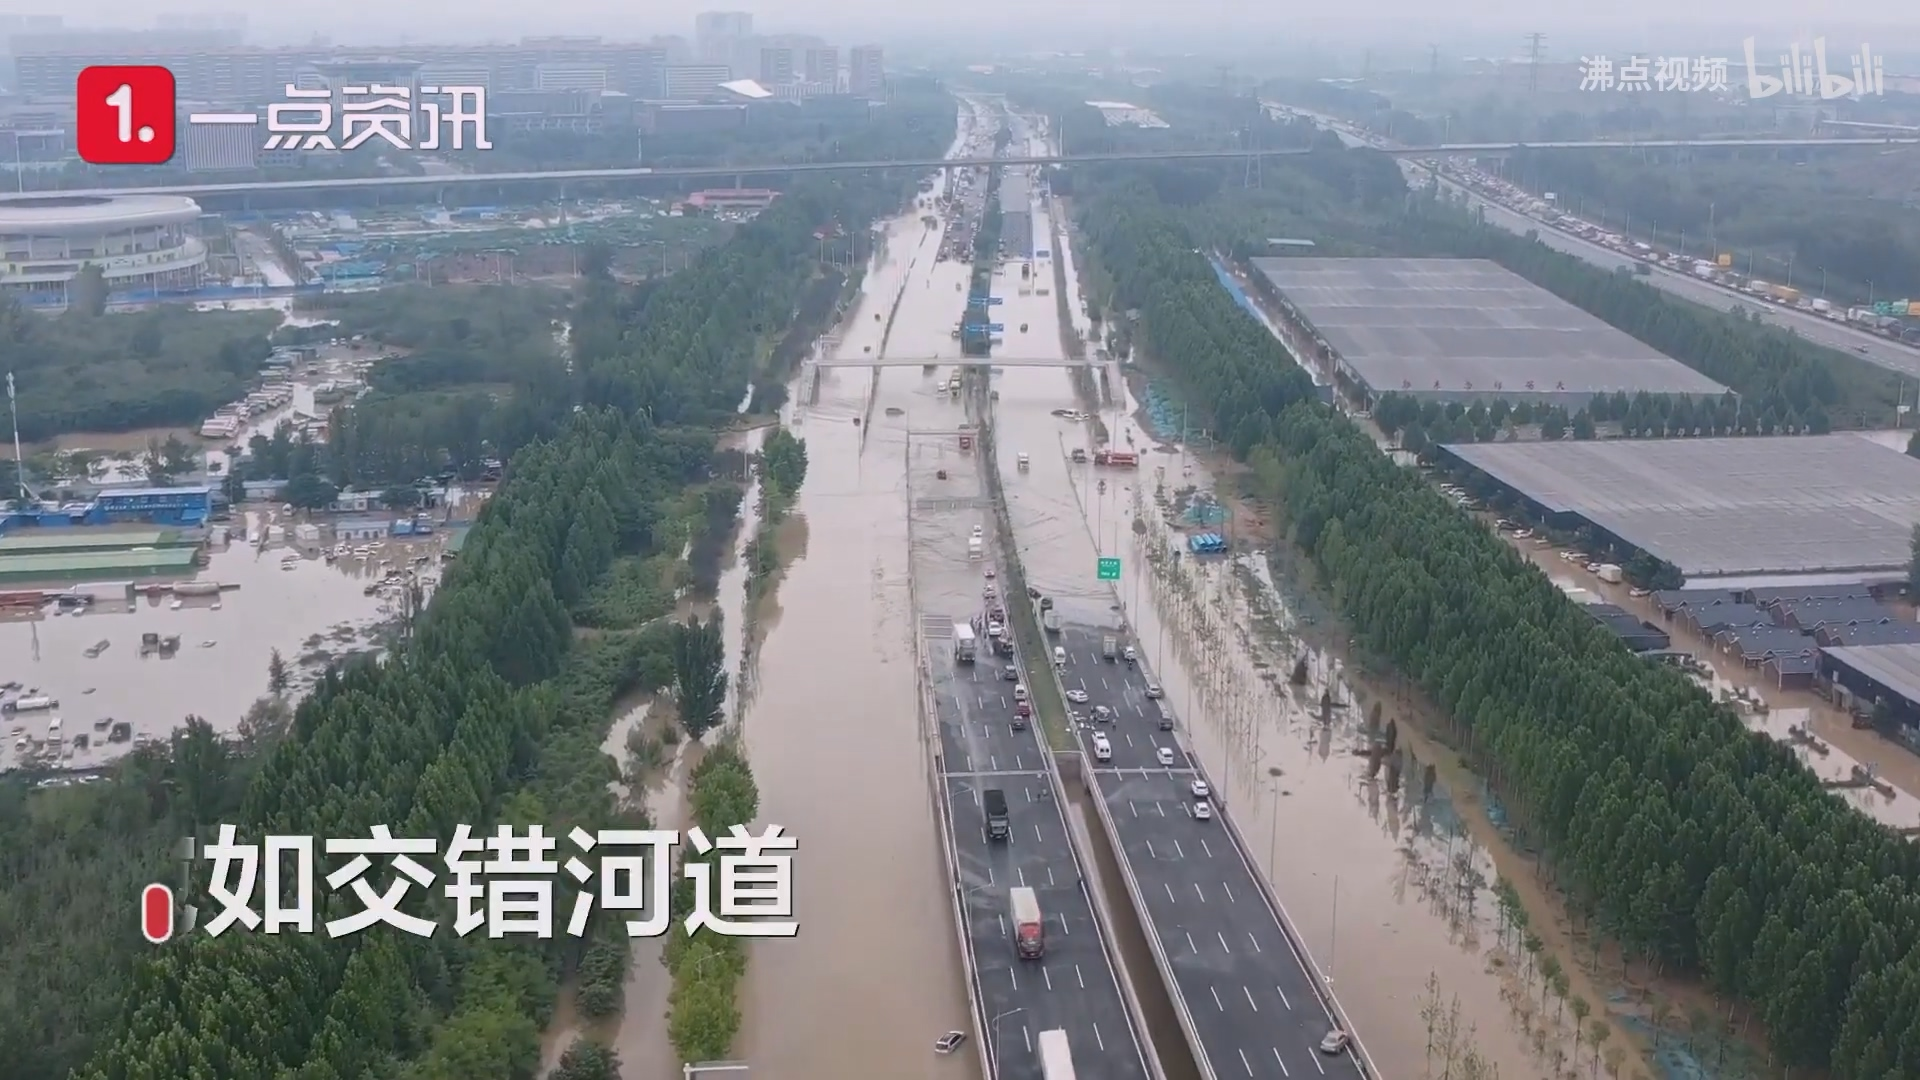puddle: (720, 458, 971, 1069), (1170, 545, 1455, 945)
